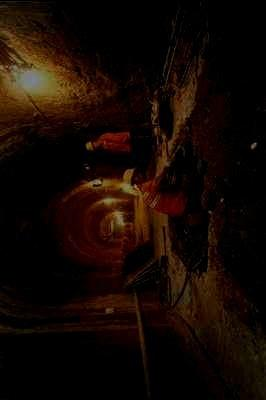helmet: (86, 141, 96, 151)
